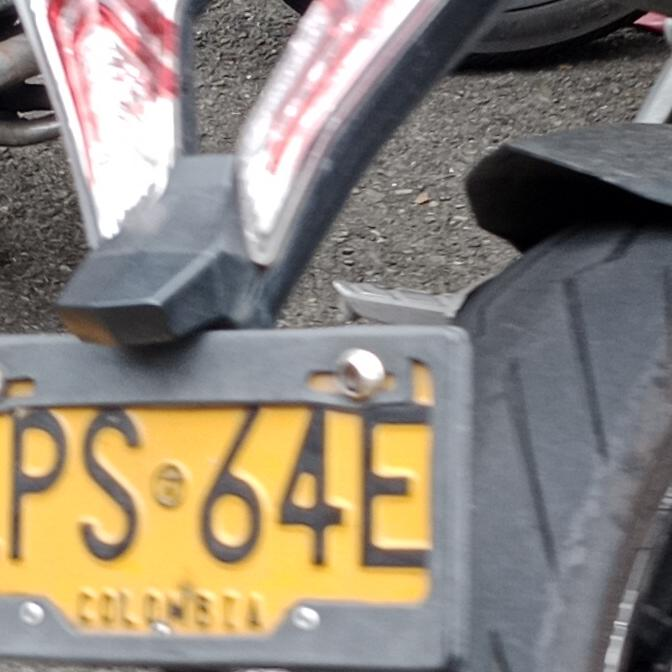plates: (0, 318, 468, 657)
